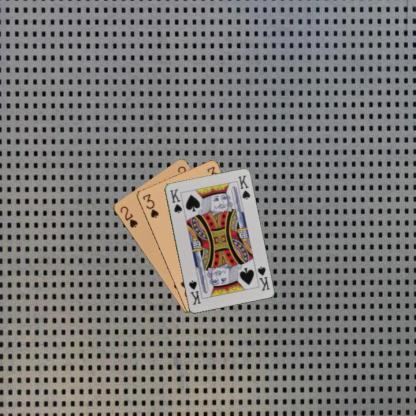2s: (118, 204, 139, 228)
3s: (140, 191, 160, 220)
Ks: (254, 263, 271, 292), (168, 186, 184, 214)
